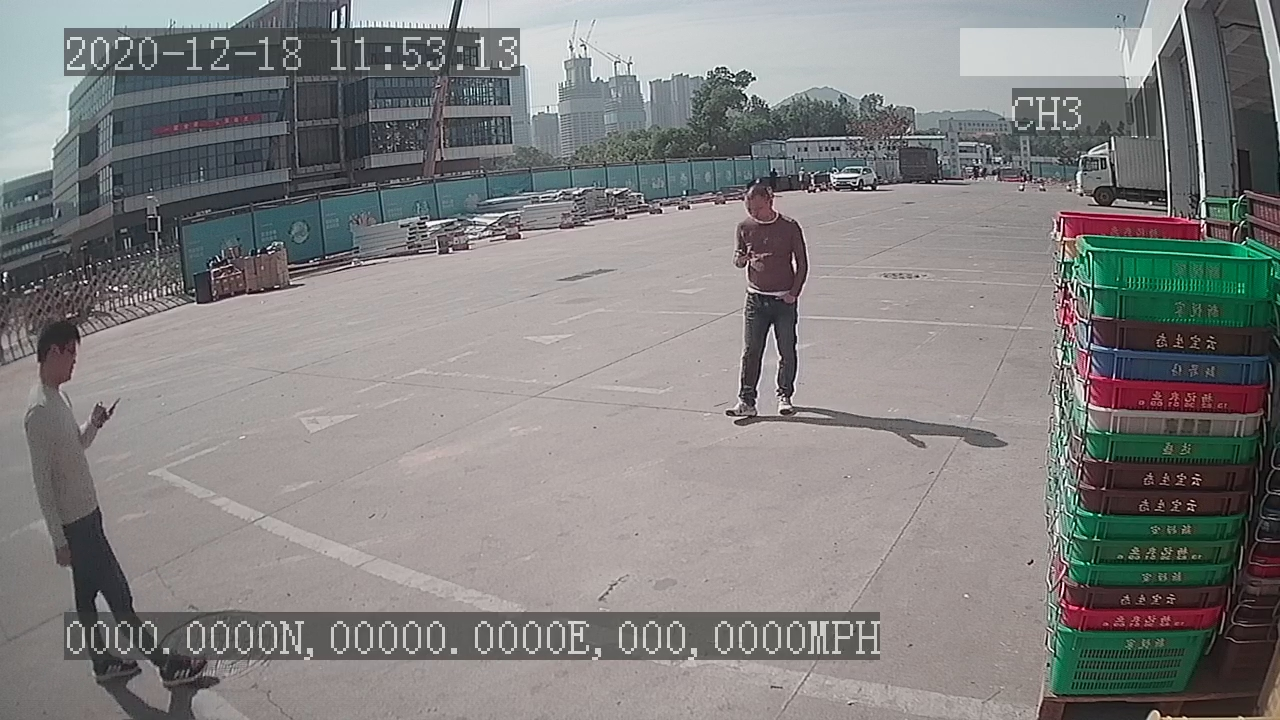person: (708, 181, 813, 429)
